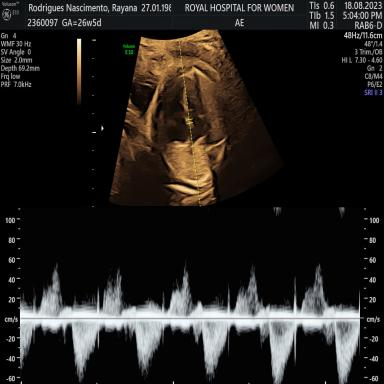Ultrasound-Waves: (26, 211, 358, 384)
